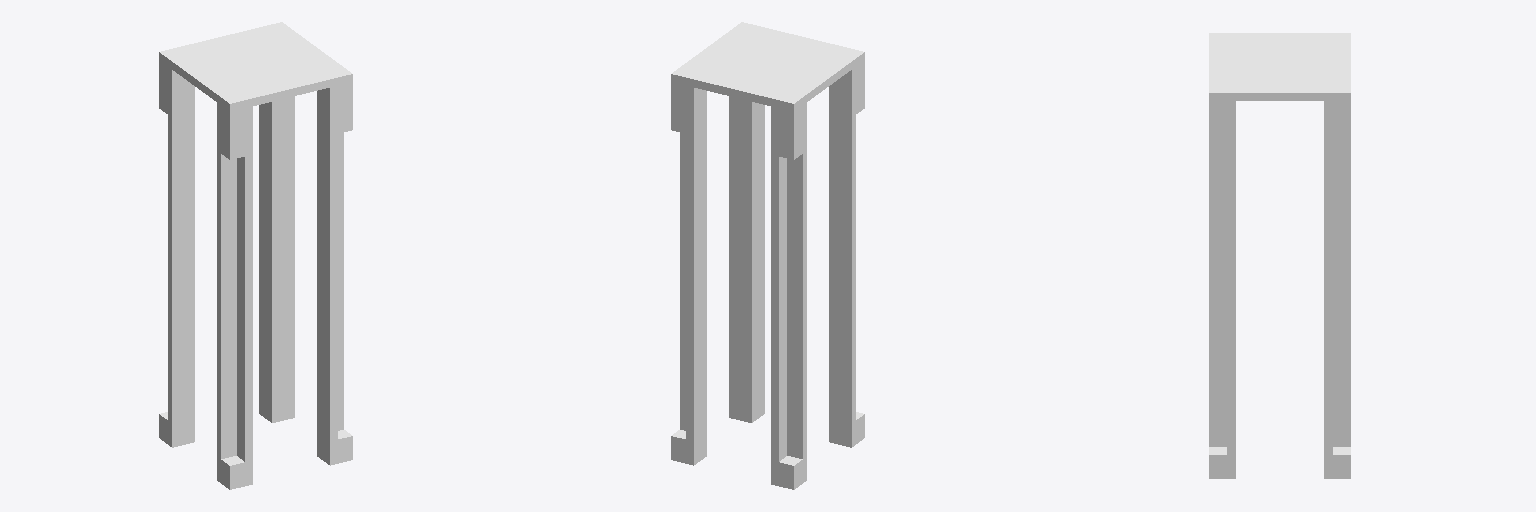
File: Cross_A.obj
The picture shows the model from 3 angles: view 1: azimuth 30°, elevation 25°; view 2: azimuth 150°, elevation 25°; view 3: azimuth 270°, elevation 25°; orthographic projection.
Parts seen in each view (by area): view 1: object 1; view 2: object 1; view 3: object 1.
Boxes of the visible parts, x1,y1,x2,y2 form: object 1: [159, 22, 352, 489]; object 1: [671, 22, 864, 489]; object 1: [1209, 33, 1350, 478].
Size of the model in its own units: 1.6 by 4.8 by 1.6.